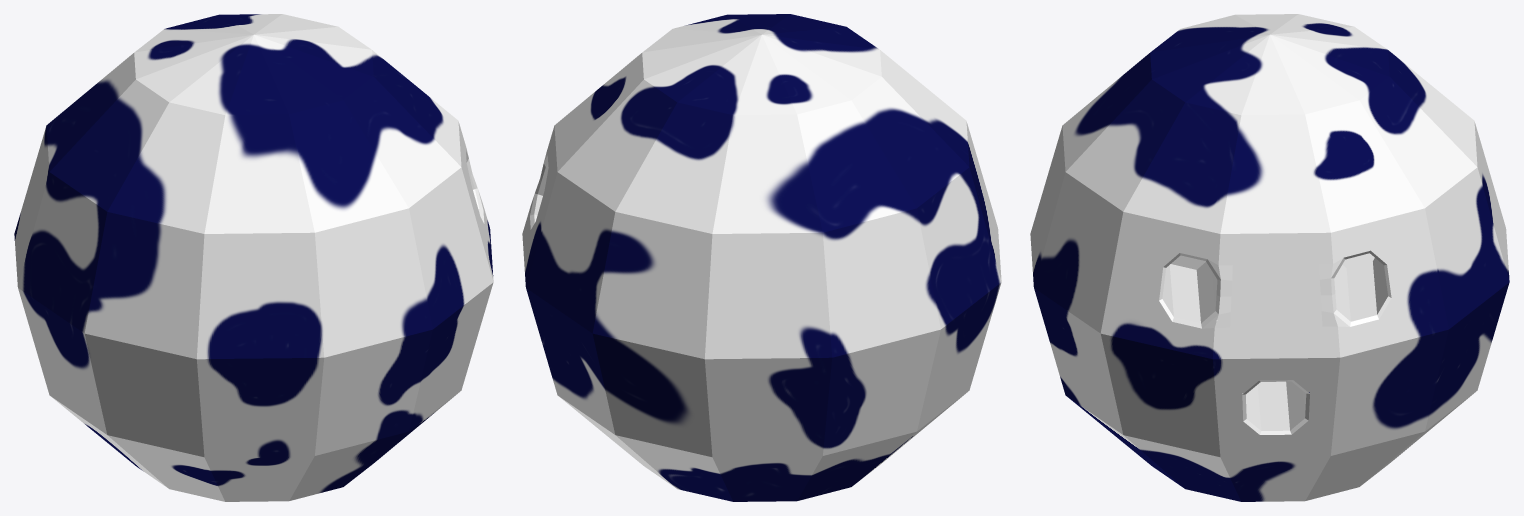
File: Cow_Bowling_Ball_FINAL (1).fbx
The picture shows the model from 3 angles, left to right: view 1: azimuth 30°, elevation 25°; view 2: azimuth 150°, elevation 25°; view 3: azimuth 270°, elevation 25°; orthographic projection.
Visible parts, largest first — view 1: Sphere.007; view 2: Sphere.007; view 3: Sphere.007.
Boxes of the visible parts, x1=… form: Sphere.007: x1=14, y1=14, x2=493, y2=501; Sphere.007: x1=522, y1=14, x2=1001, y2=501; Sphere.007: x1=1030, y1=14, x2=1509, y2=501.
Size of the model in its own units: 195 by 200 by 195.
1 material, 1 textured.
